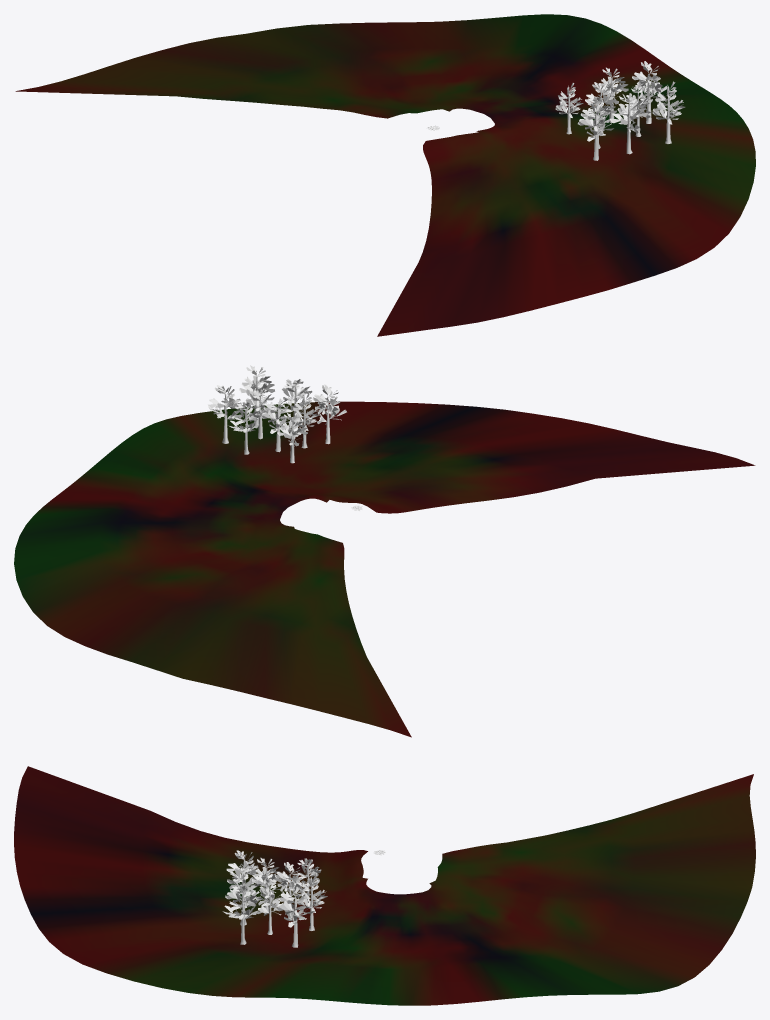
Rendered from Distant.glb.
3 renders of one model, top to bottom at view 1: azimuth 30°, elevation 25°; view 2: azimuth 150°, elevation 25°; view 3: azimuth 270°, elevation 25°, orthographic. The views are drawn at different scales.
Parts seen in each view (by area): view 1: OutsideDistantGround, Tree_Proxy_Group; view 2: OutsideDistantGround, Tree_Proxy_Group; view 3: OutsideDistantGround, Tree_Proxy_Group.
Part boxes in pixels (x1=…): OutsideDistantGround: x1=15, y1=14, x2=755, y2=336; Tree_Proxy_Group: x1=555, y1=61, x2=685, y2=160; OutsideDistantGround: x1=14, y1=401, x2=755, y2=737; Tree_Proxy_Group: x1=208, y1=365, x2=346, y2=463; OutsideDistantGround: x1=14, y1=766, x2=755, y2=1005; Tree_Proxy_Group: x1=222, y1=850, x2=327, y2=947.
Bounding box in the file's own units: 326 × 60.46 × 408.
